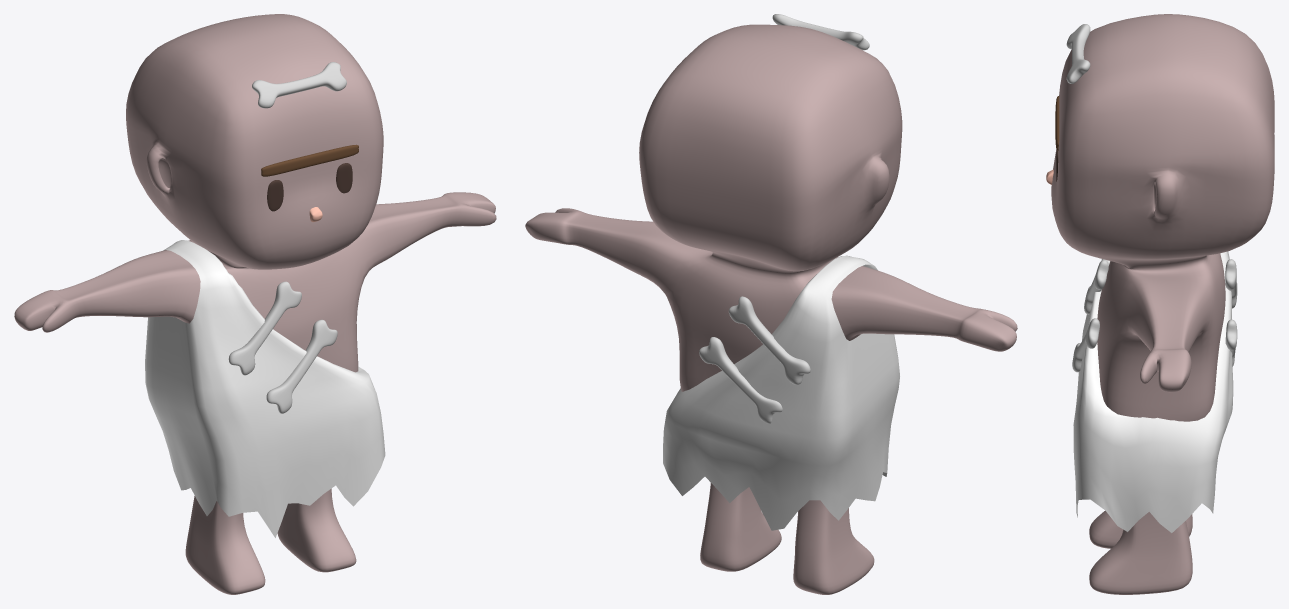
The model's file is chico_prehistoria (1).fbx.
3 renders of one model, left to right at view 1: azimuth 30°, elevation 25°; view 2: azimuth 150°, elevation 25°; view 3: azimuth 270°, elevation 25°, orthographic. The views are drawn at different scales.
Parts seen in each view (by area): view 1: Cuerpo, Ropaje, Huesos, Unicejo, Ojos; view 2: Cuerpo, Ropaje, Huesos; view 3: Cuerpo, Ropaje, Huesos.
Part boxes in pixels (box(x1,y1,x2,y2)): Cuerpo: box(14, 14, 496, 594); Ropaje: box(145, 240, 385, 537); Huesos: box(228, 62, 346, 413); Unicejo: box(261, 144, 358, 176); Ojos: box(267, 163, 352, 211); Cuerpo: box(525, 24, 1017, 594); Ropaje: box(663, 255, 899, 530); Huesos: box(699, 14, 869, 423); Cuerpo: box(1051, 14, 1274, 594); Ropaje: box(1073, 251, 1233, 532); Huesos: box(1066, 24, 1237, 372).
Bounding box in the file's own units: 202 × 214 × 83.52.
